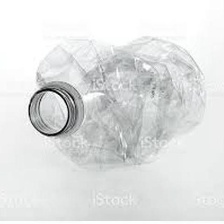bottle: (26, 32, 212, 173)
